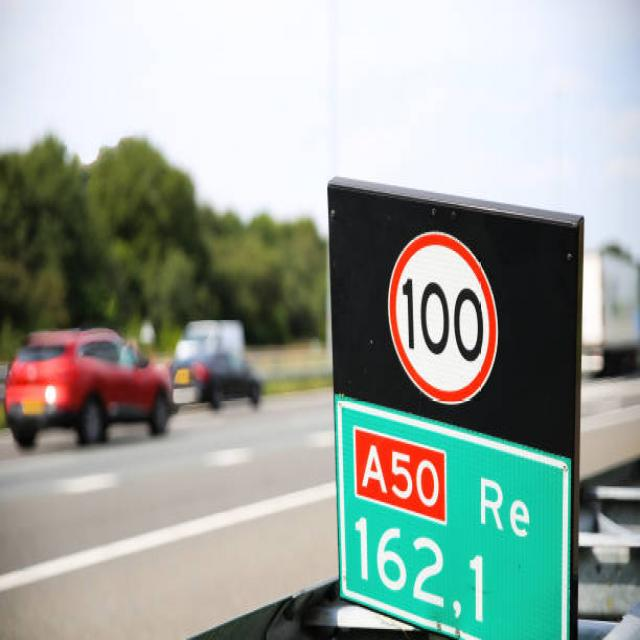speed_limit_100: (385, 230, 505, 413)
